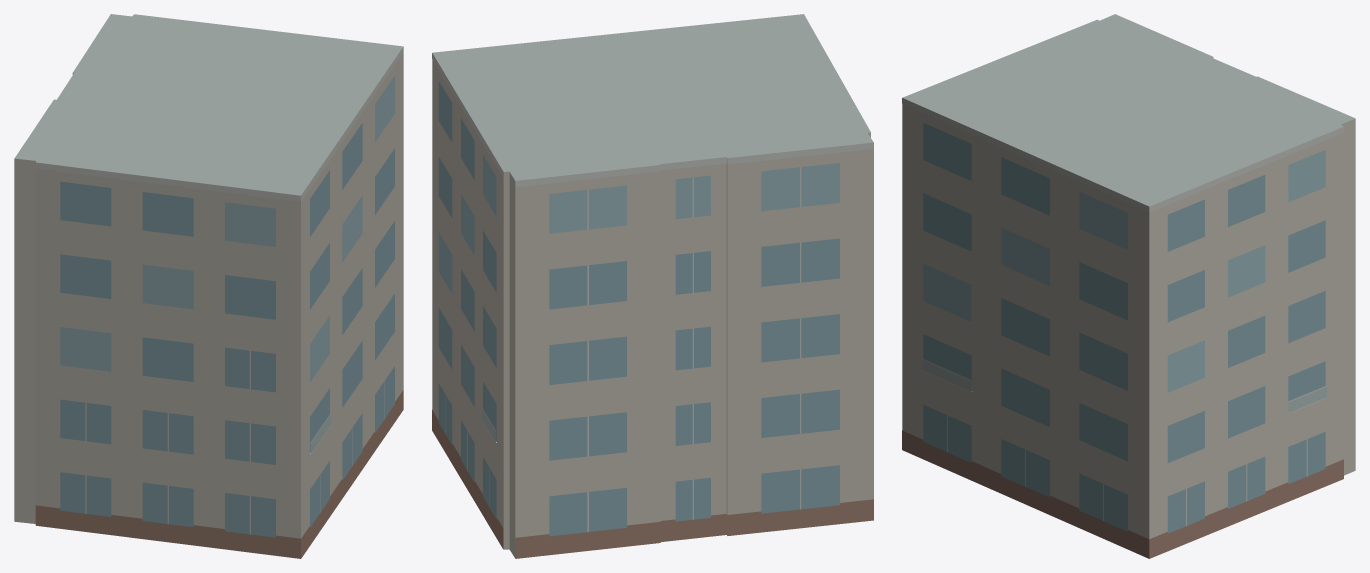
The model's file is survey-upis-32885064.glb.
3 views of the same model, side by side, from view 1: azimuth 30°, elevation 25°; view 2: azimuth 150°, elevation 25°; view 3: azimuth 270°, elevation 25° (orthographic). The views are drawn at different scales.
Parts seen in each view (by area): view 1: survey-upis-32885064.tmp; view 2: survey-upis-32885064.tmp; view 3: survey-upis-32885064.tmp.
Boxes of the visible parts, x1,y1,x2,y2 form: survey-upis-32885064.tmp: (14,14,403,558); survey-upis-32885064.tmp: (432,14,873,558); survey-upis-32885064.tmp: (902,14,1355,558).
Bounding box in the file's own units: 16.95 × 14.45 × 16.86.
